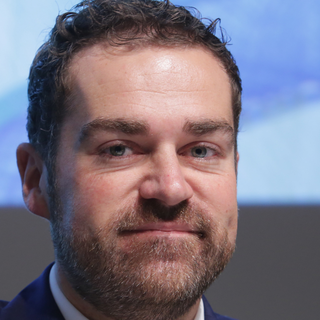eye: (90, 138, 146, 165), (175, 141, 225, 166)
